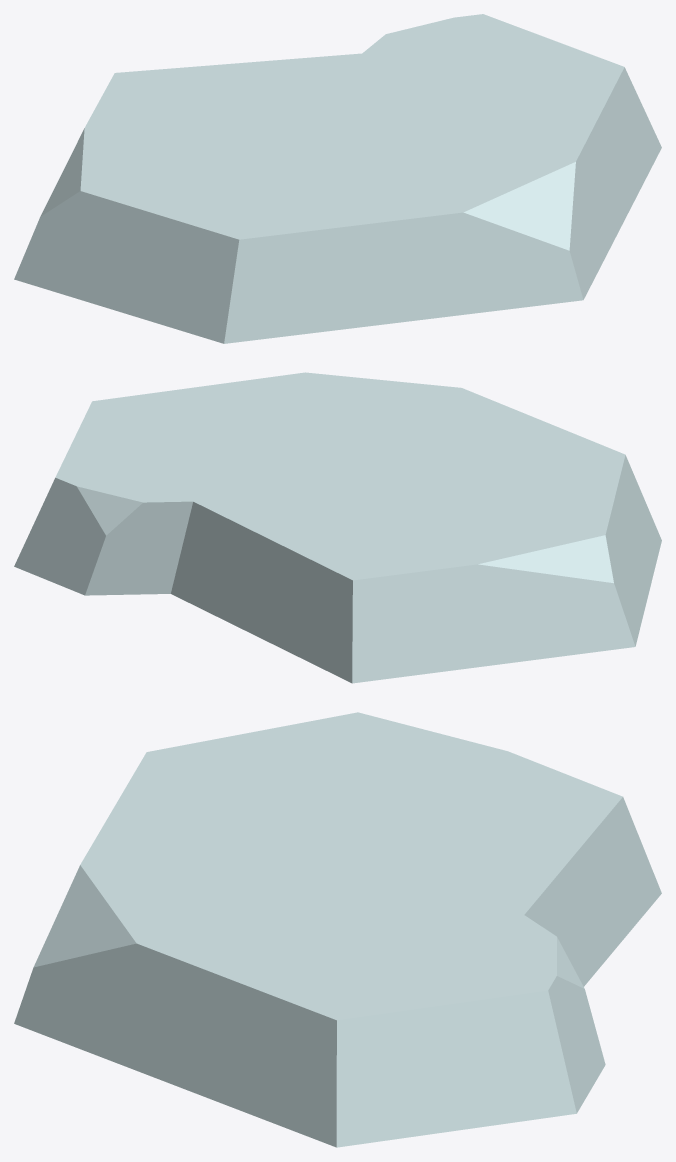
Rendered from nature-kit-classic--stone-smallflat3.glb.
The picture shows the model from 3 angles, top to bottom: view 1: azimuth 30°, elevation 25°; view 2: azimuth 150°, elevation 25°; view 3: azimuth 270°, elevation 25°; orthographic projection. The views are drawn at different scales.
Parts seen in each view (by area): view 1: stone_smallFlat3; view 2: stone_smallFlat3; view 3: stone_smallFlat3.
Part boxes in pixels (x1,y1,x2,y2): stone_smallFlat3: [14, 14, 661, 343]; stone_smallFlat3: [14, 372, 661, 683]; stone_smallFlat3: [14, 712, 661, 1147].
Size of the model in its own units: 0.4704 by 0.0649 by 0.3603.
